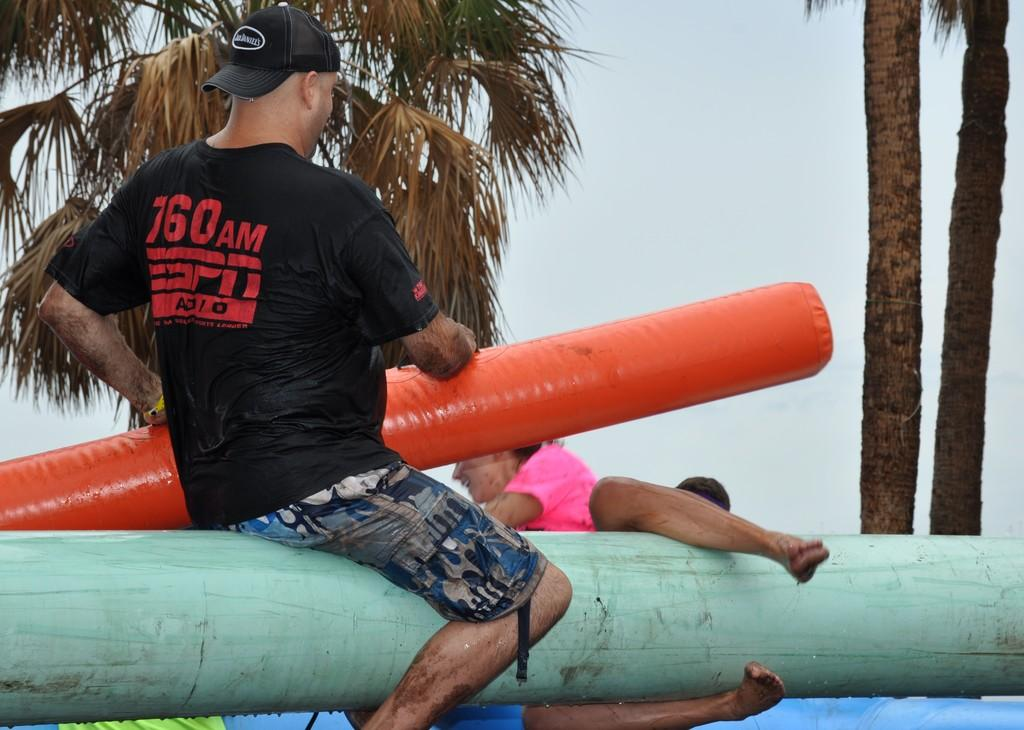Hat: (199, 4, 344, 103)
